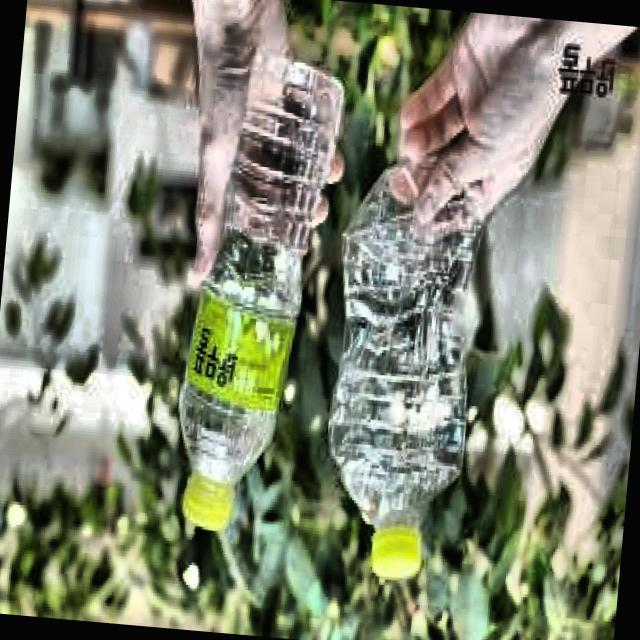plastic bottle: (182, 53, 340, 529), (329, 168, 483, 581)
